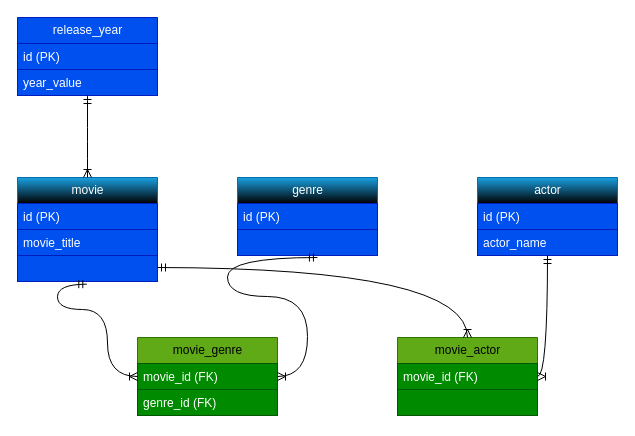
Image size: 635x436. Some labels were removed from this diagram. Each missing label, with the centre of its shape:
"actor_id (FK)" goes at point 467,402.
"genre_type" goes at point 307,242.
"year_id (FK)" goes at point 87,268.
